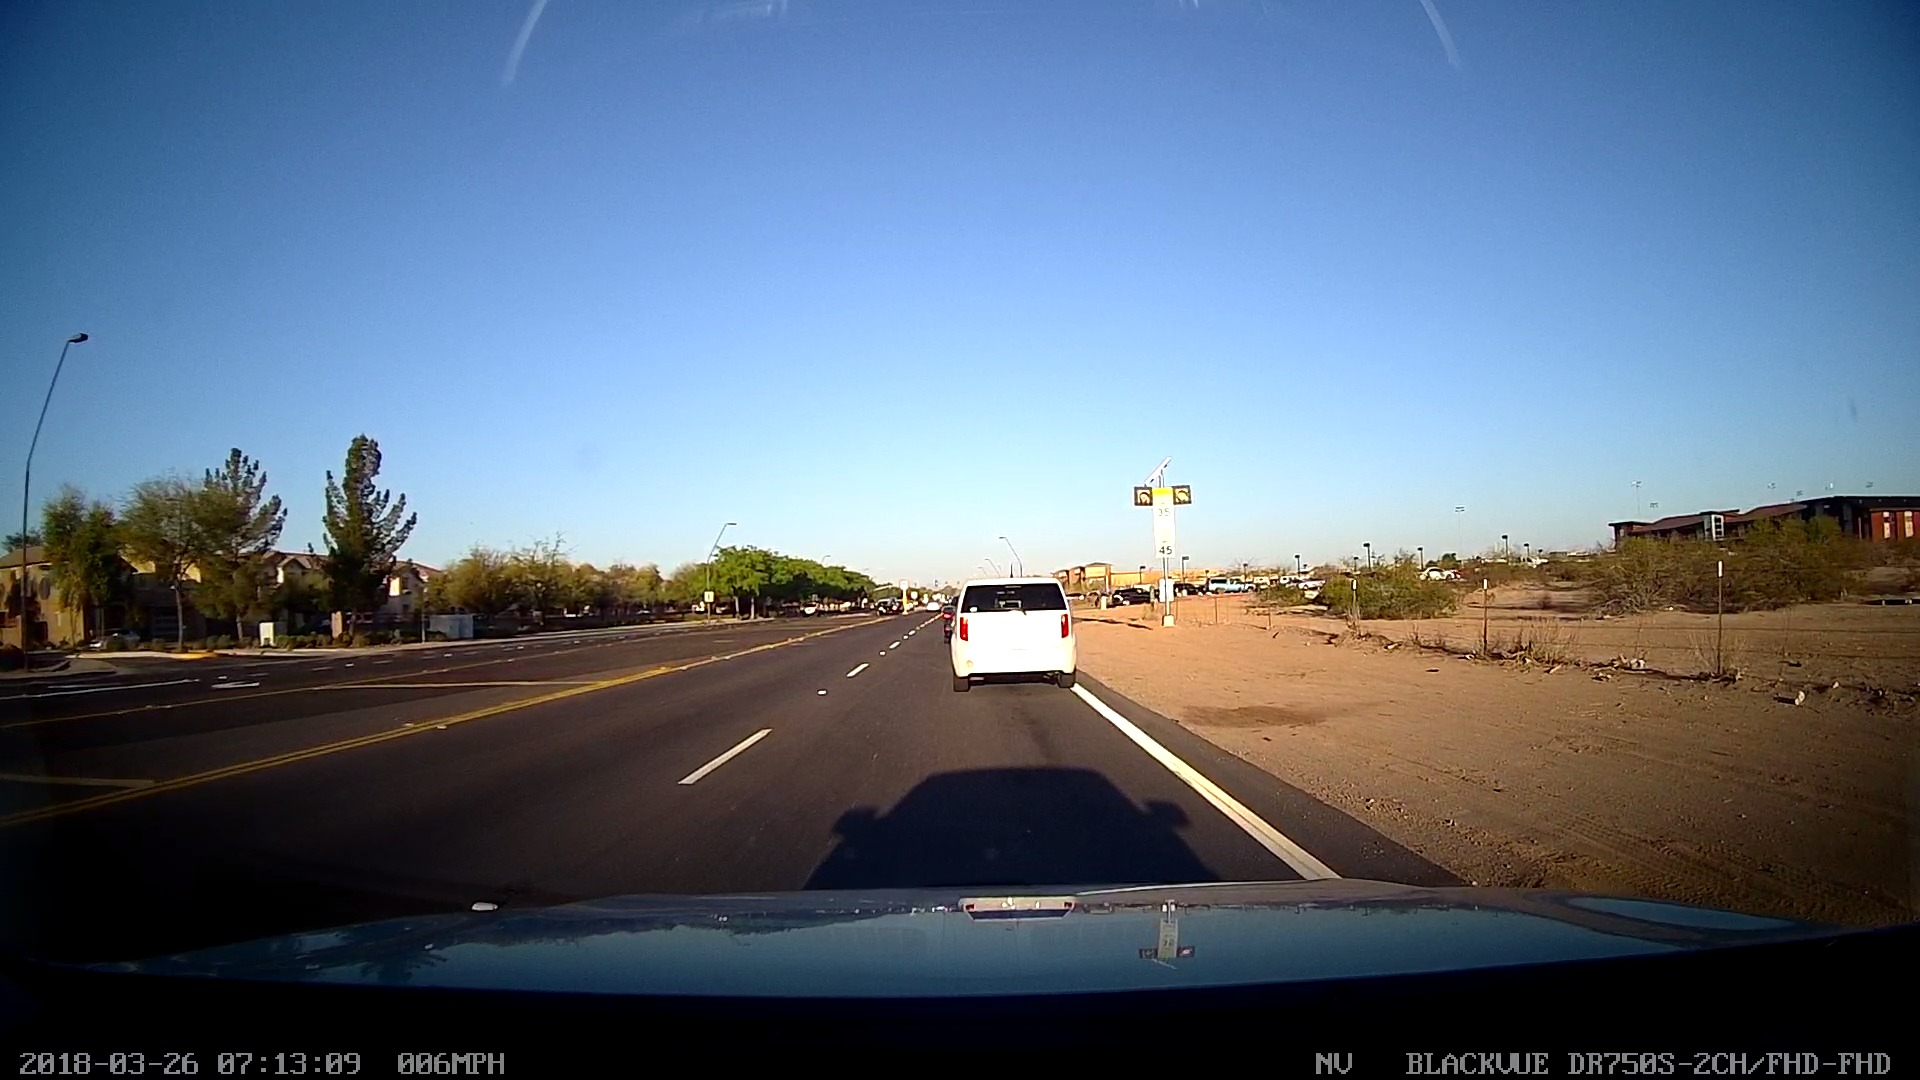vehicle: (943, 574, 1085, 694)
